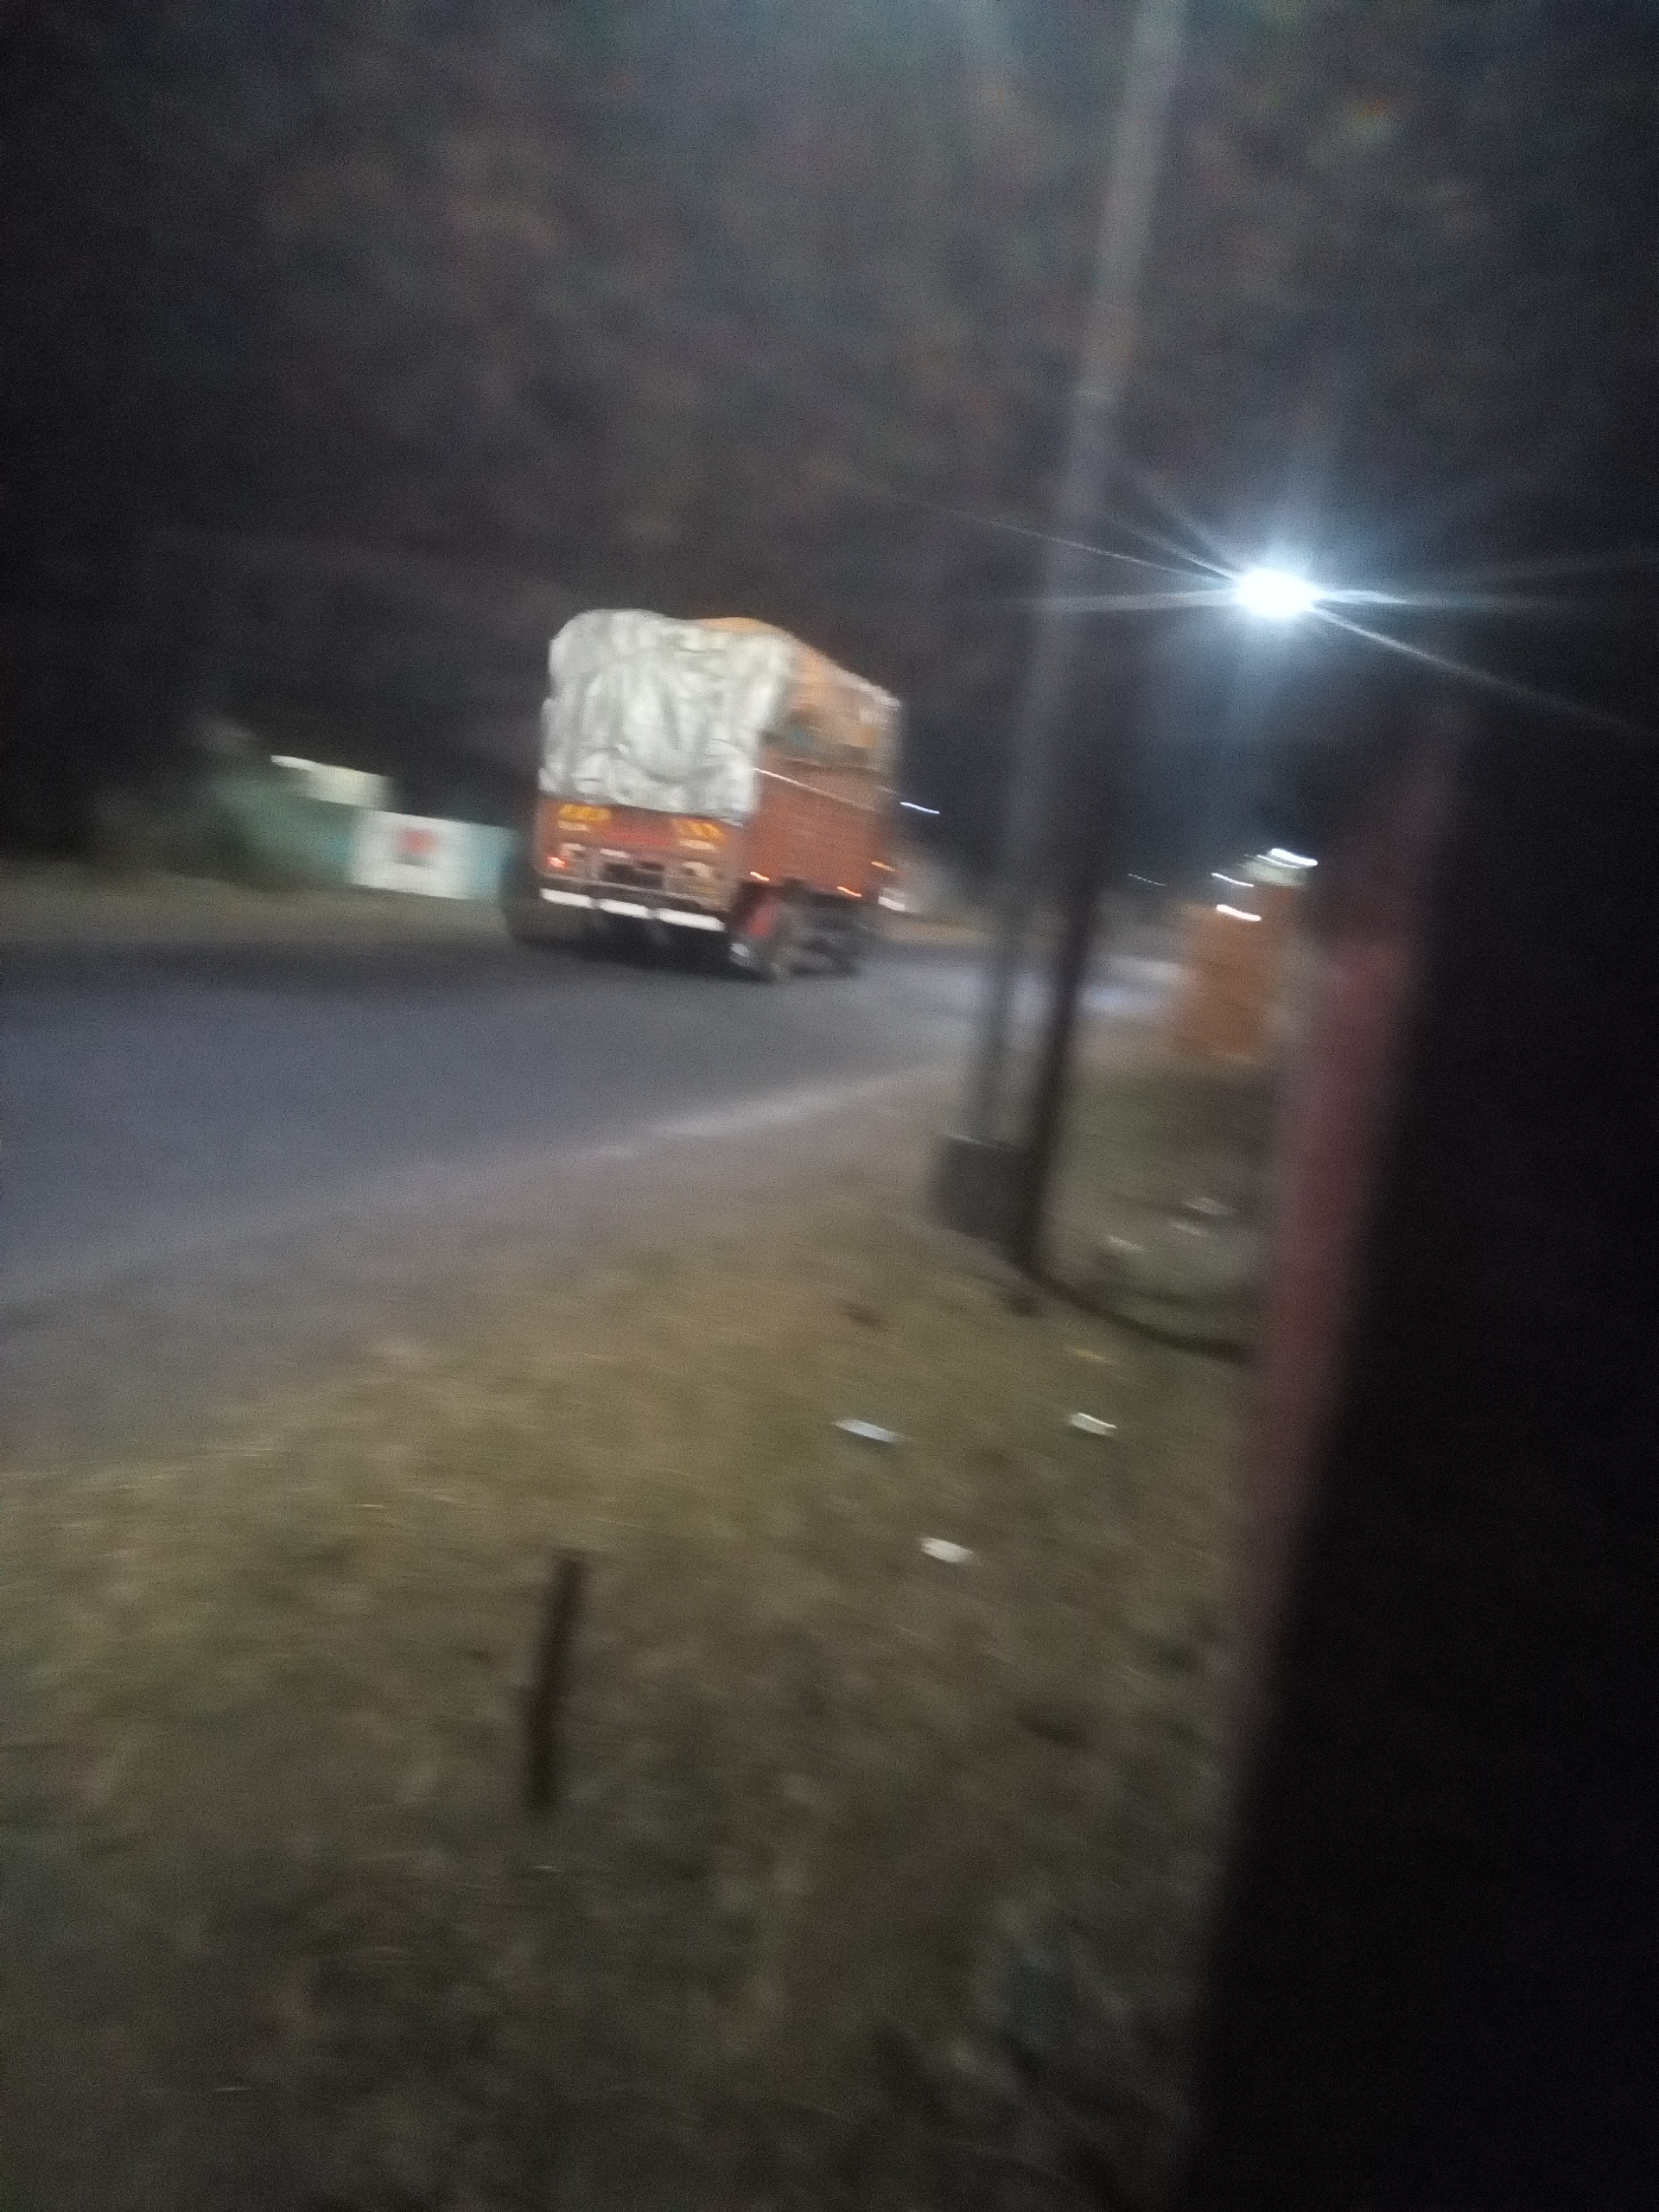truck: (528, 604, 906, 986)
